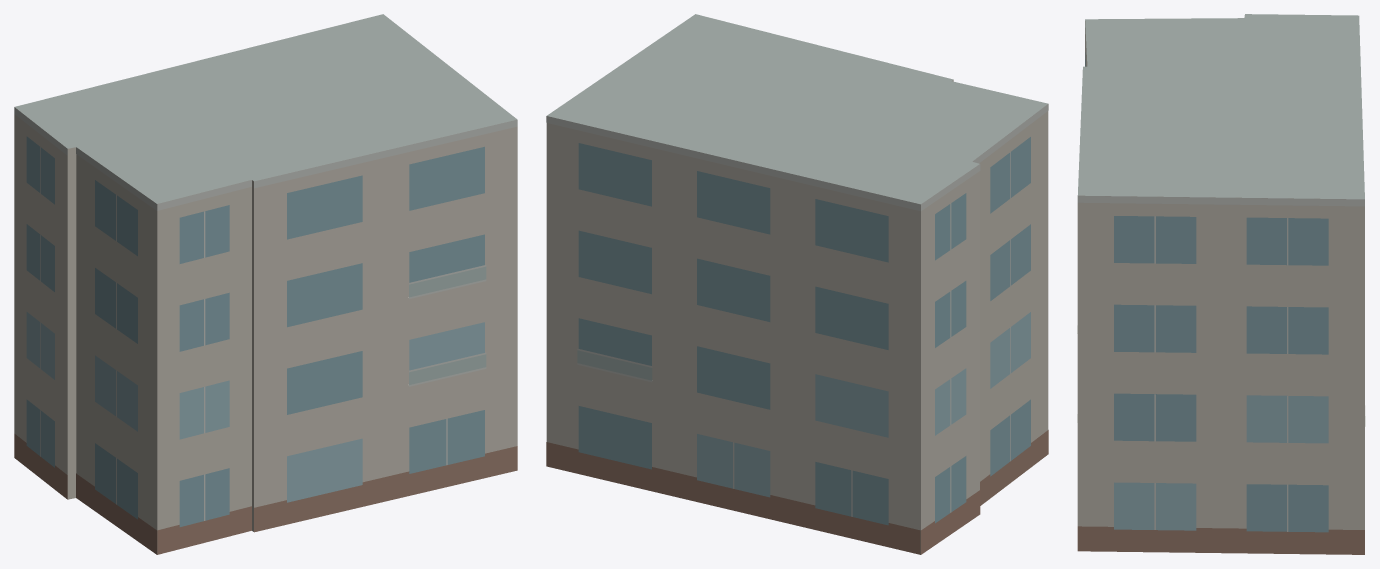
The model's file is survey-upis-32908200.glb.
3 renders of one model, left to right at view 1: azimuth 30°, elevation 25°; view 2: azimuth 150°, elevation 25°; view 3: azimuth 270°, elevation 25°, orthographic.
Parts seen in each view (by area): view 1: survey-upis-32908200.tmp; view 2: survey-upis-32908200.tmp; view 3: survey-upis-32908200.tmp.
Part boxes in pixels (x1,y1,x2,y2): survey-upis-32908200.tmp: (14,14,517,554); survey-upis-32908200.tmp: (546,14,1048,554); survey-upis-32908200.tmp: (1077,14,1365,554).
Bounding box in the file's own units: 13.76 × 12.3 × 9.05.
